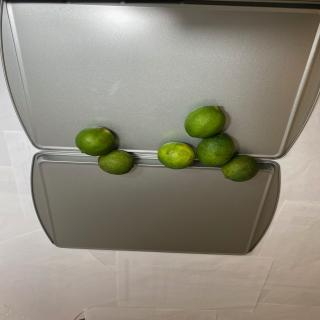Lemon: (184, 105, 226, 138), (196, 133, 235, 167), (75, 126, 115, 156), (157, 142, 195, 170), (222, 155, 260, 182), (97, 150, 134, 174)
